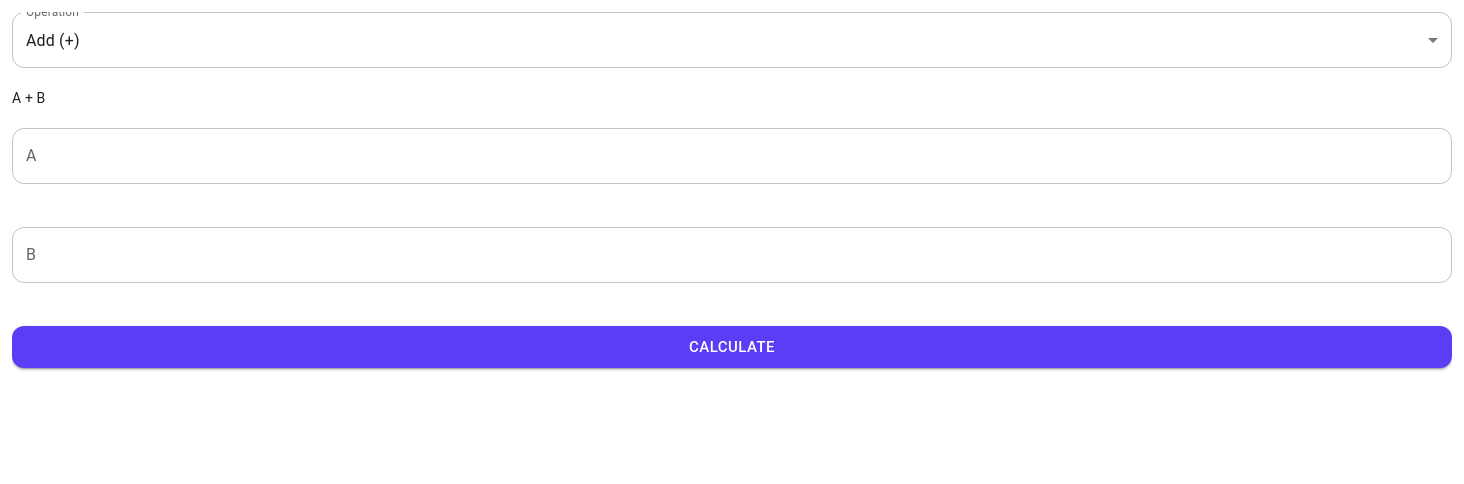
Test: CalculatorForm › submits a valid calculation and renders the result
The image size is (1464, 484).
Step 1. Type "2" into the field labelled "A" → (732, 156), box [12,128,1452,184]
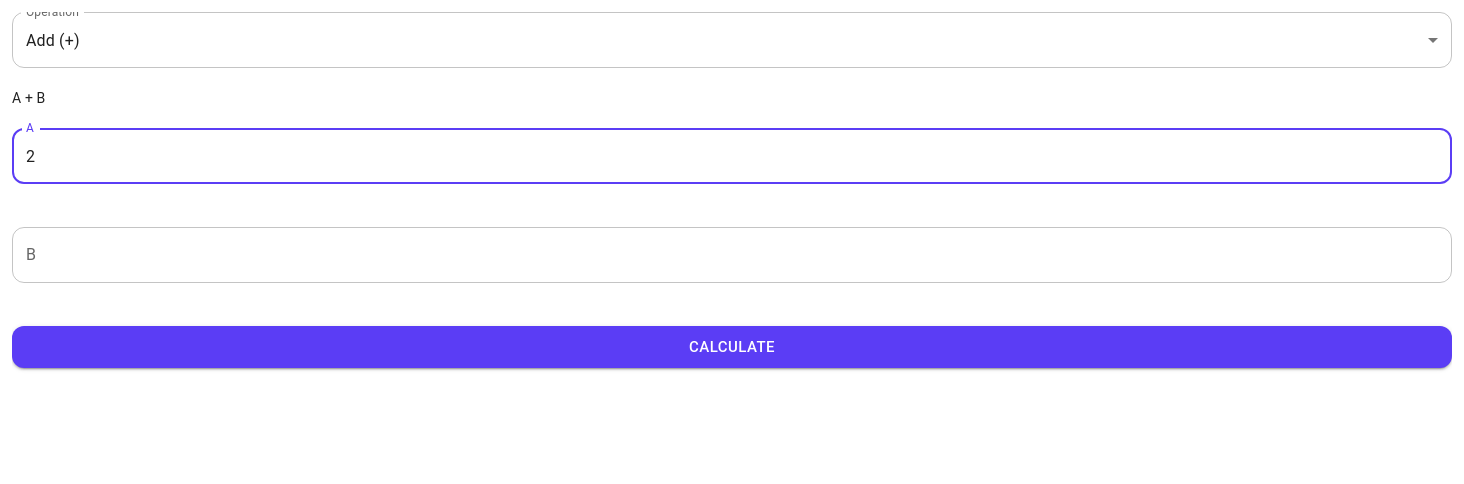
Step 2. Type "3" into the field labelled "B" → (732, 255), box [12,227,1452,283]
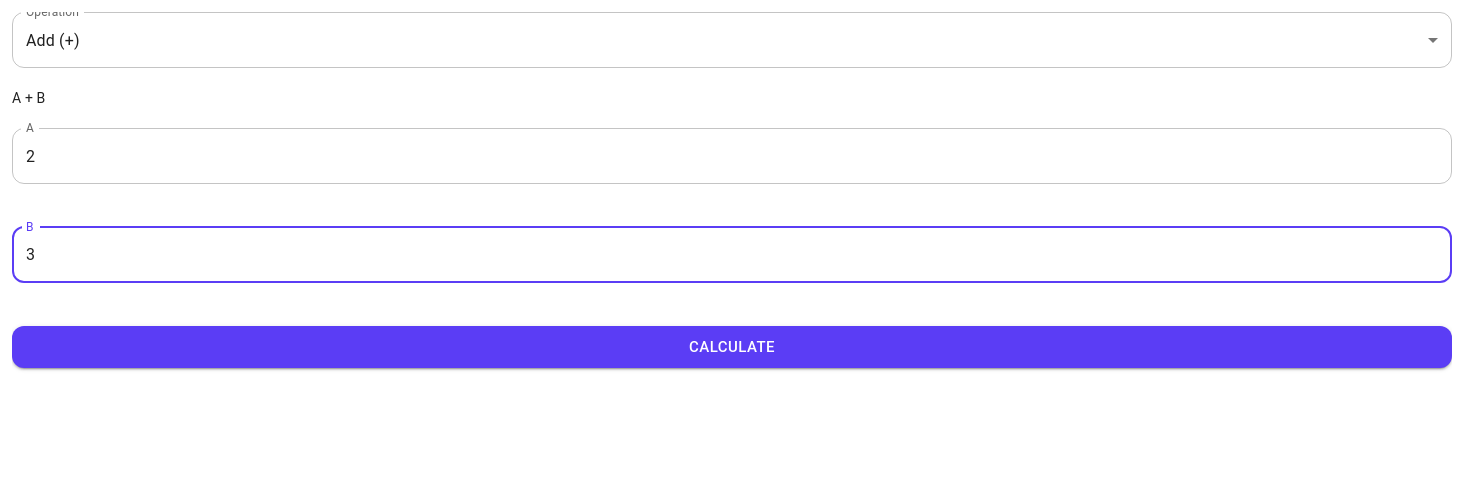
Step 3. Click the button "Calculate" → (732, 347), box [12,326,1452,368]
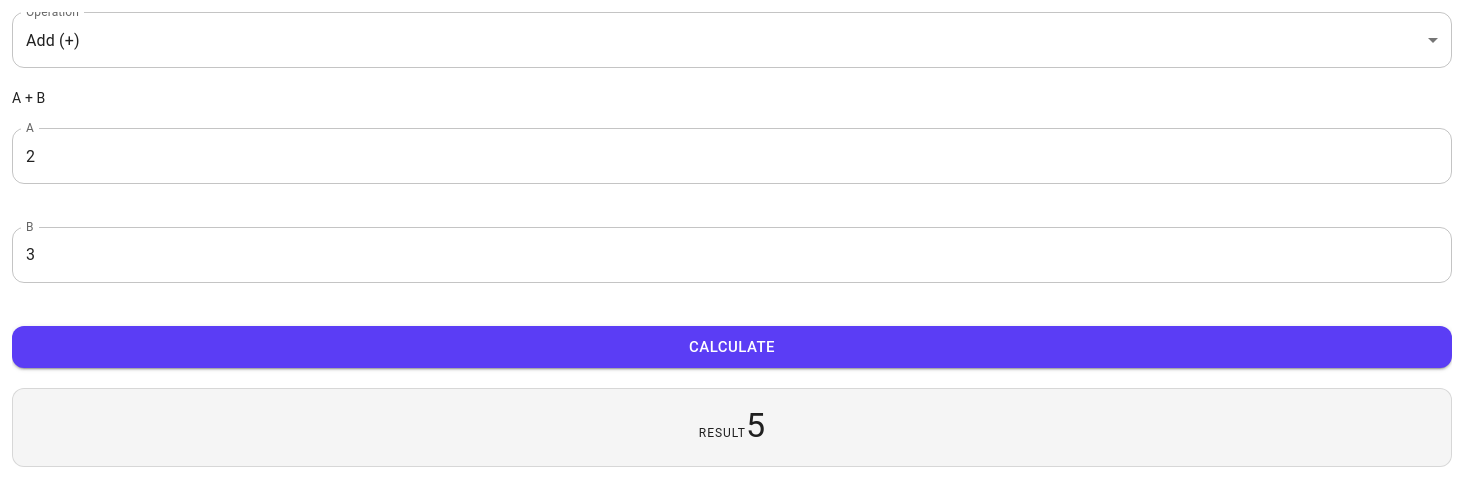
Now the text with test id "result" reads "5", box [746,405,765,445]
